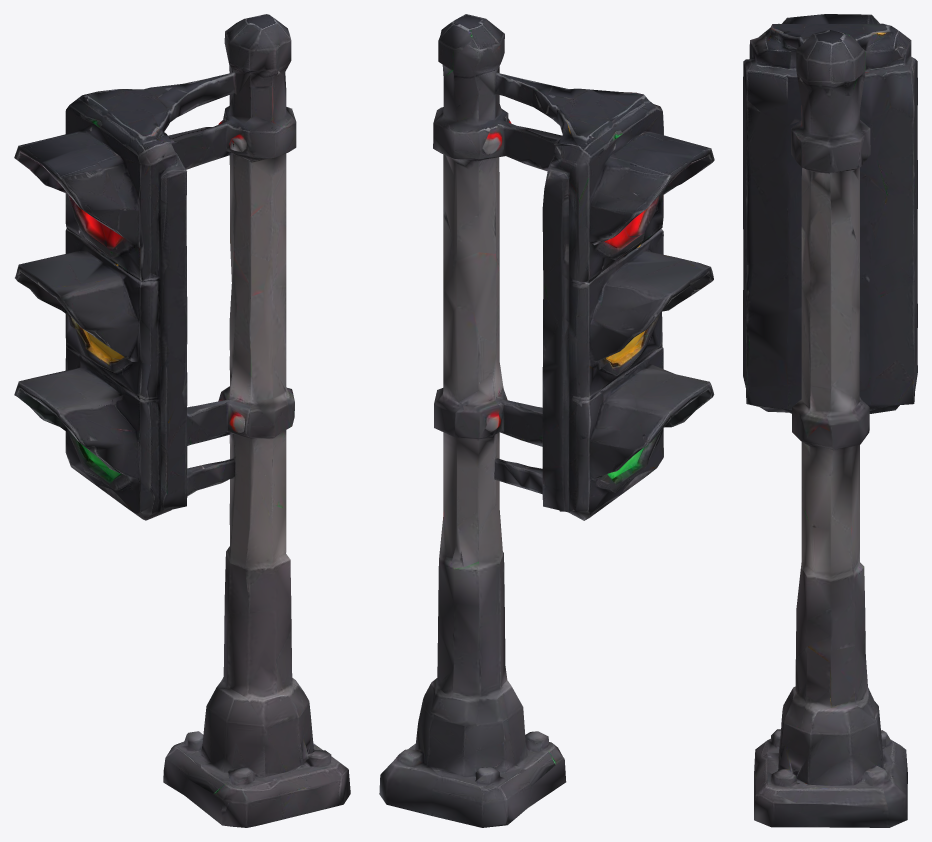
The model's file is semaforo.opt.glb.
3 views of the same model, side by side, from view 1: azimuth 30°, elevation 25°; view 2: azimuth 150°, elevation 25°; view 3: azimuth 270°, elevation 25° (orthographic).
Size of the model in its own units: 0.7348 by 1.9 by 0.3951.
Materials: 1 (1 with a texture image).
